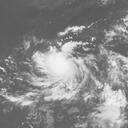cyclone: (37, 47, 81, 93)
